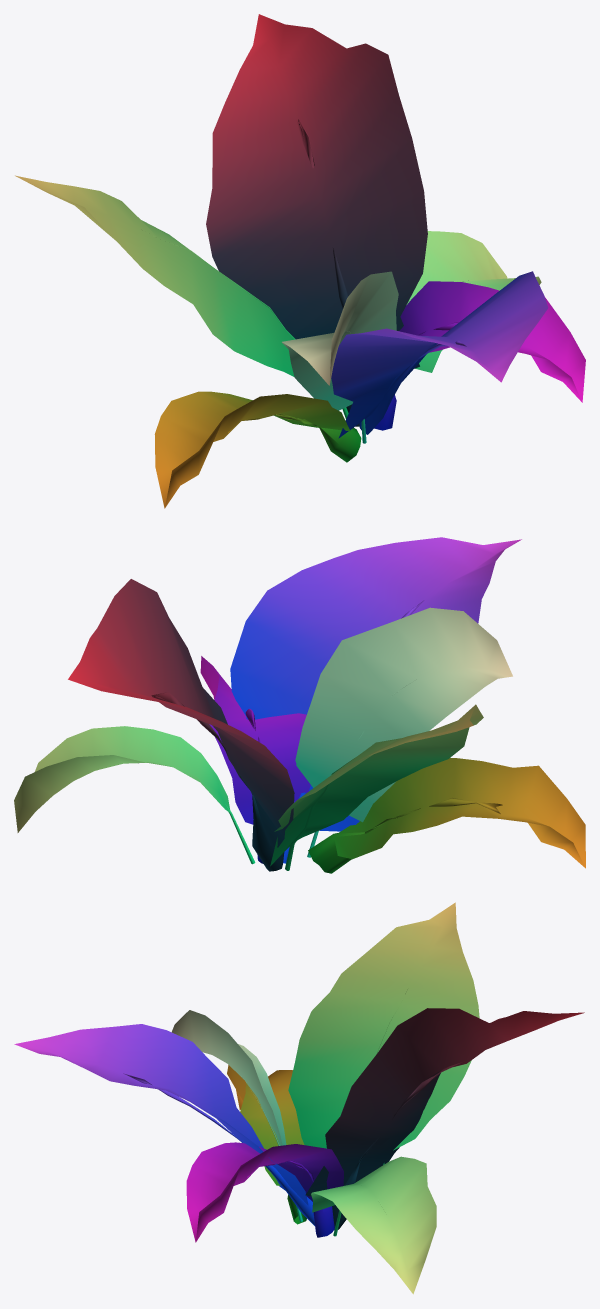
File: Lady_Fern_wdvlditia_Mid_wdvlditia_VarH_LOD0.fbx
3 renders of one model, top to bottom at view 1: azimuth 30°, elevation 25°; view 2: azimuth 150°, elevation 25°; view 3: azimuth 270°, elevation 25°, orthographic. The views are drawn at different scales.
Parts seen in each view (by area): view 1: _dxpx_VarH_LOD2; view 2: _dxpx_VarH_LOD2; view 3: _dxpx_VarH_LOD2.
Part boxes in pixels (left/top/right/bottom): _dxpx_VarH_LOD2: left=15, top=14, right=585, bottom=508; _dxpx_VarH_LOD2: left=14, top=537, right=585, bottom=873; _dxpx_VarH_LOD2: left=14, top=902, right=584, bottom=1294.
Bounding box in the file's own units: 127 × 81.28 × 159.
